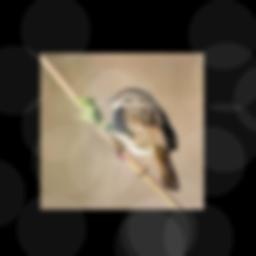Sparrow: (105, 86, 180, 192)
